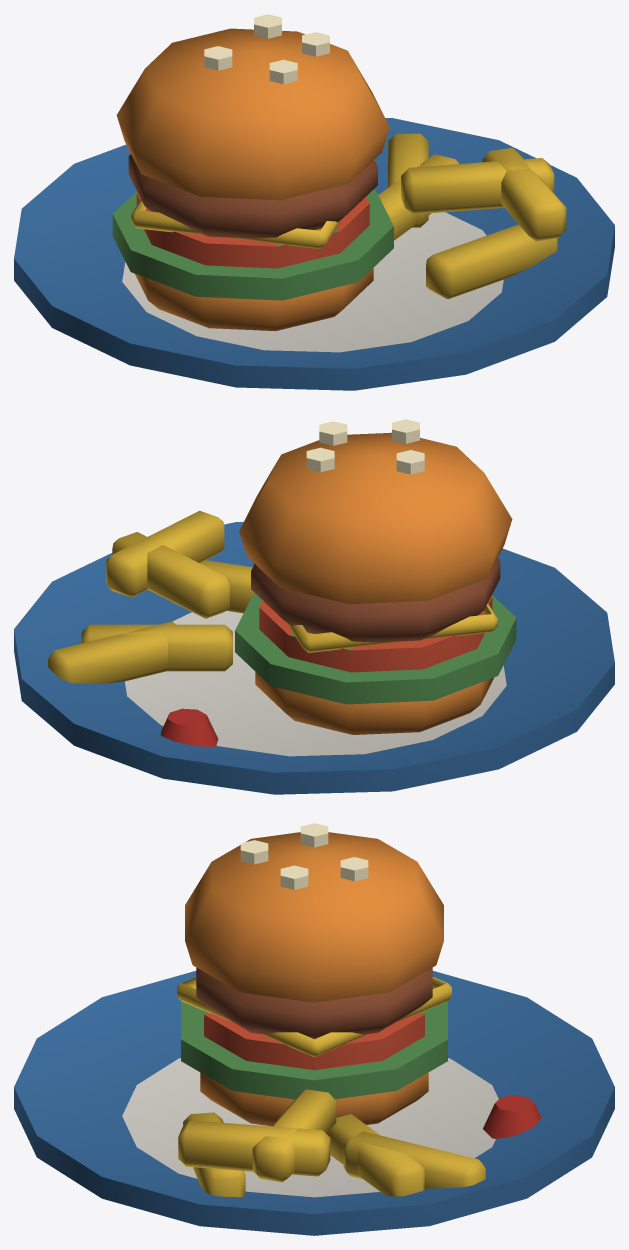
File: SM_Plate_Burger_01.glb
3 renders of one model, top to bottom at view 1: azimuth 30°, elevation 25°; view 2: azimuth 150°, elevation 25°; view 3: azimuth 270°, elevation 25°, orthographic.
Visible parts, largest first — view 1: SM_Plate_Burger_01; view 2: SM_Plate_Burger_01; view 3: SM_Plate_Burger_01.
Part boxes in pixels (bbox=[...]): SM_Plate_Burger_01: bbox=[14, 14, 614, 390]; SM_Plate_Burger_01: bbox=[14, 419, 614, 794]; SM_Plate_Burger_01: bbox=[14, 823, 614, 1235].
Size of the model in its own units: 0.3 by 0.15 by 0.3.
1 material, 1 textured.
